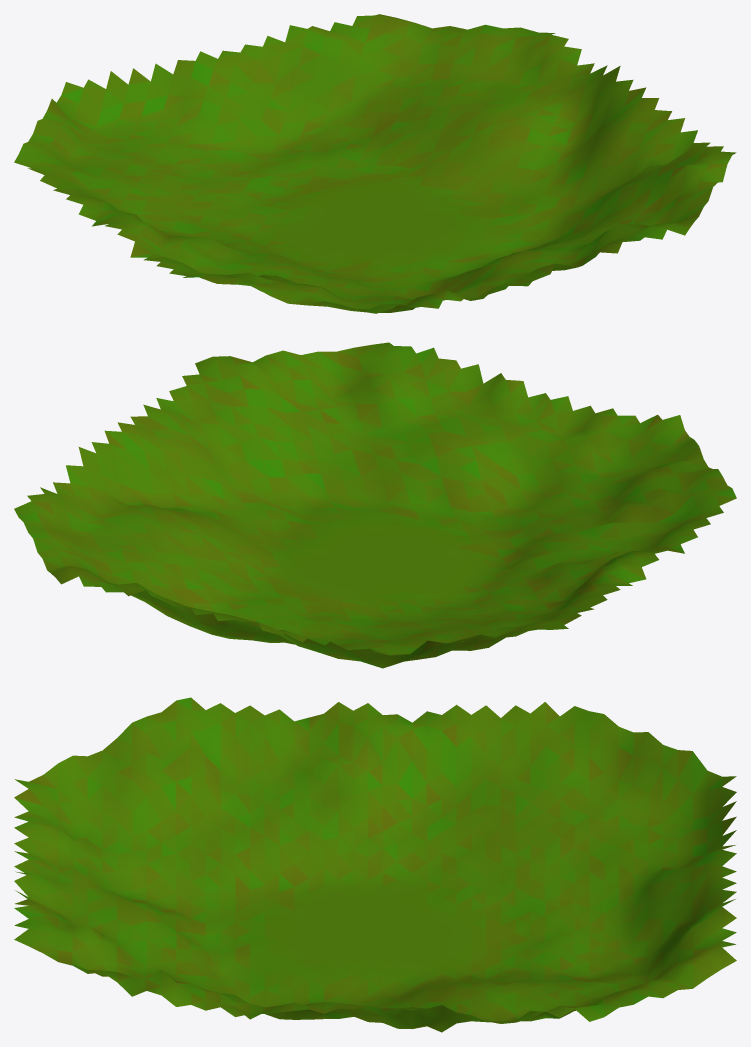
File: terrain.fbx
The picture shows the model from 3 angles, top to bottom: view 1: azimuth 30°, elevation 25°; view 2: azimuth 150°, elevation 25°; view 3: azimuth 270°, elevation 25°; orthographic projection. The views are drawn at different scales.
Visible parts, largest first — view 1: Terrain; view 2: Terrain; view 3: Terrain.
Boxes of the visible parts, <box> form: Terrain: <box>14,14,736,313</box>; Terrain: <box>14,342,736,668</box>; Terrain: <box>14,697,736,1032</box>.
Bounding box in the file's own units: 36540 × 5230 × 36540.
